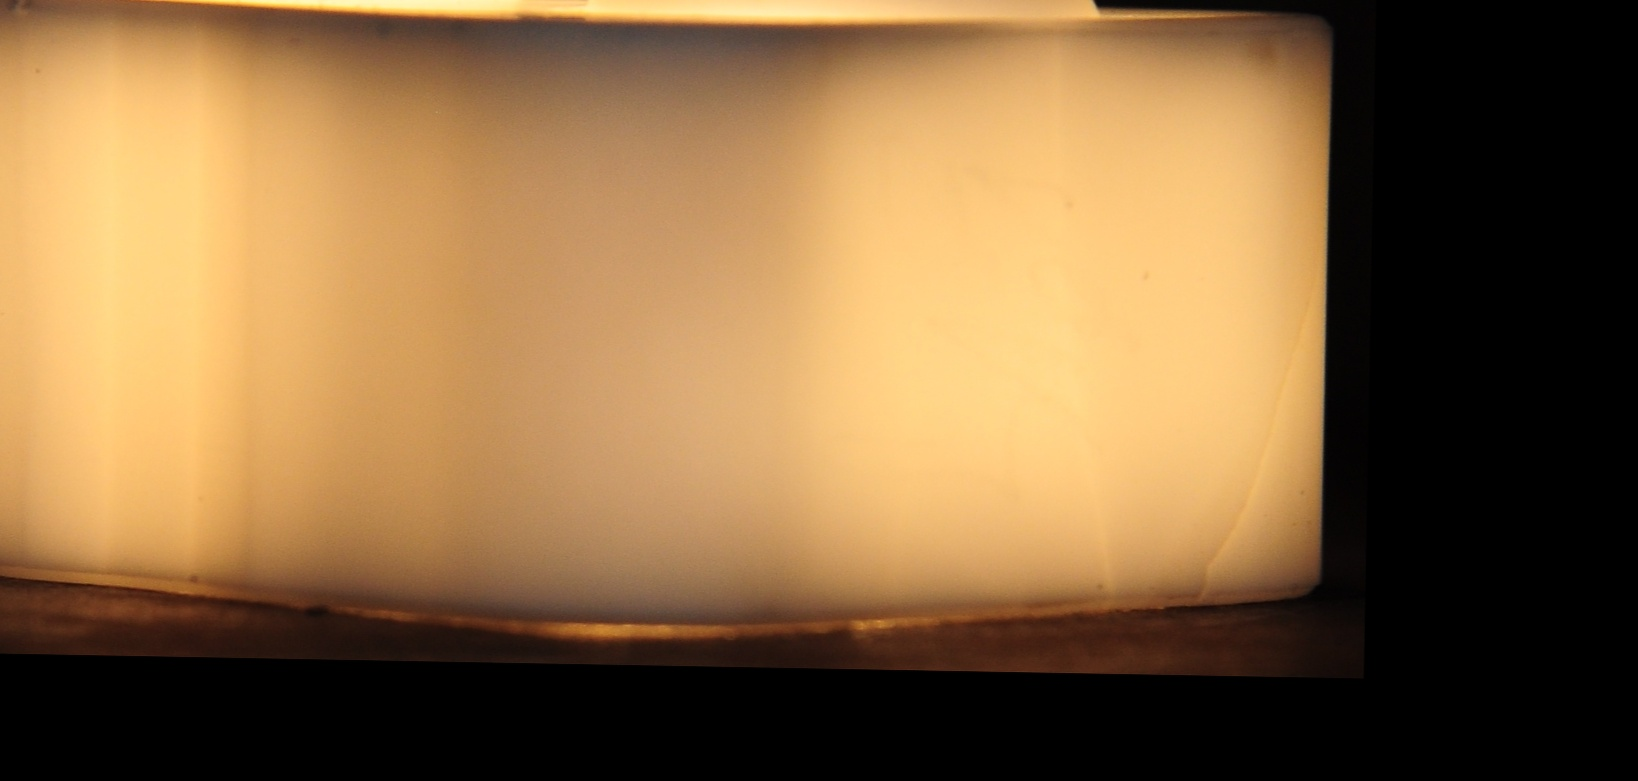flaw: (1183, 274, 1324, 608), (1064, 230, 1119, 620)
